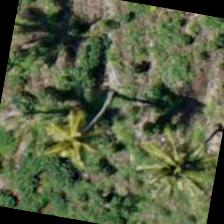Kelapa_Sawit: (15, 82, 119, 186), (120, 113, 222, 218)
